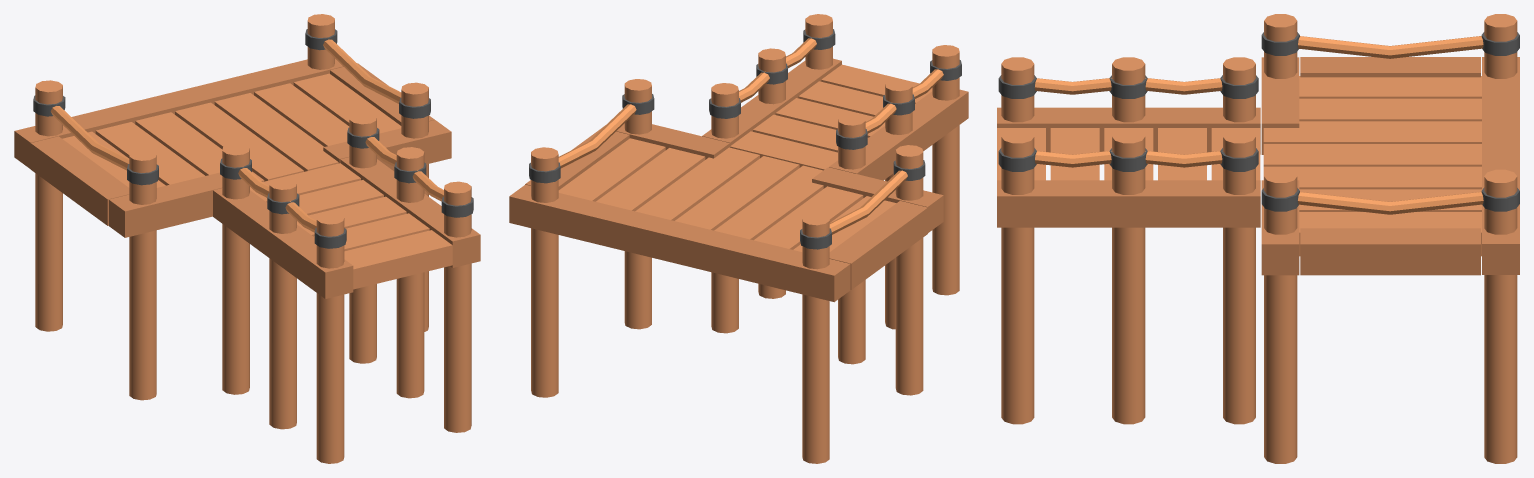
File: Pier.fbx
3 renders of one model, left to right at view 1: azimuth 30°, elevation 25°; view 2: azimuth 150°, elevation 25°; view 3: azimuth 270°, elevation 25°, orthographic. The views are drawn at different scales.
Visible parts, largest first — view 1: Pier; view 2: Pier; view 3: Pier.
Boxes of the visible parts, <box> form: Pier: <box>14,14,480,463</box>; Pier: <box>509,14,968,463</box>; Pier: <box>997,14,1519,463</box>.
Size of the model in its own units: 504 by 353 by 595.
